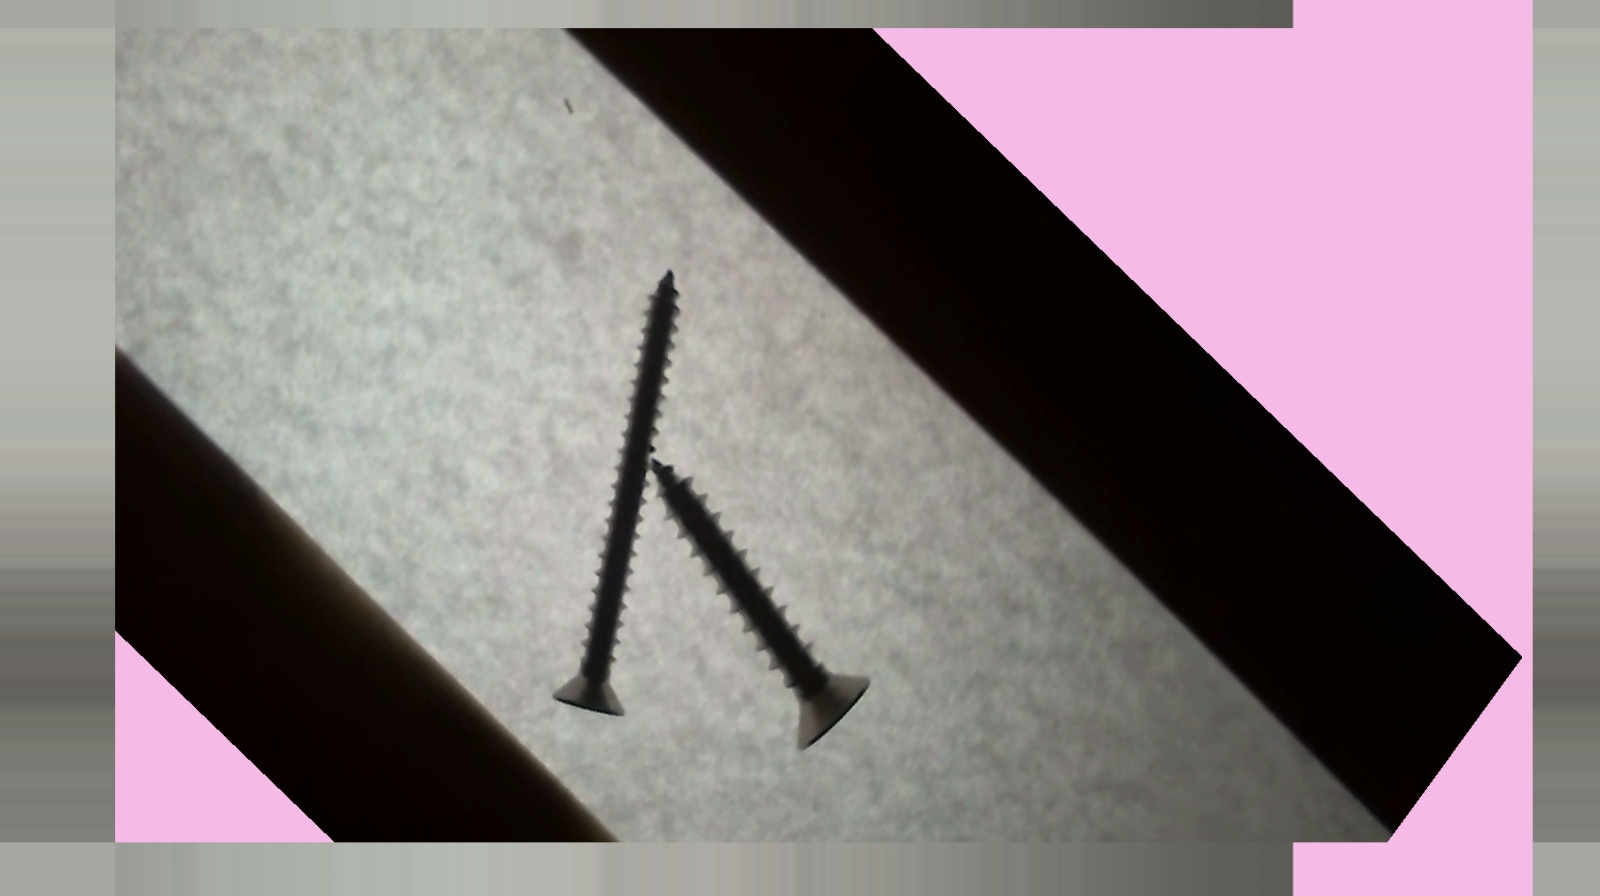S001: (576, 433, 898, 776)
S002: (413, 241, 851, 764)
